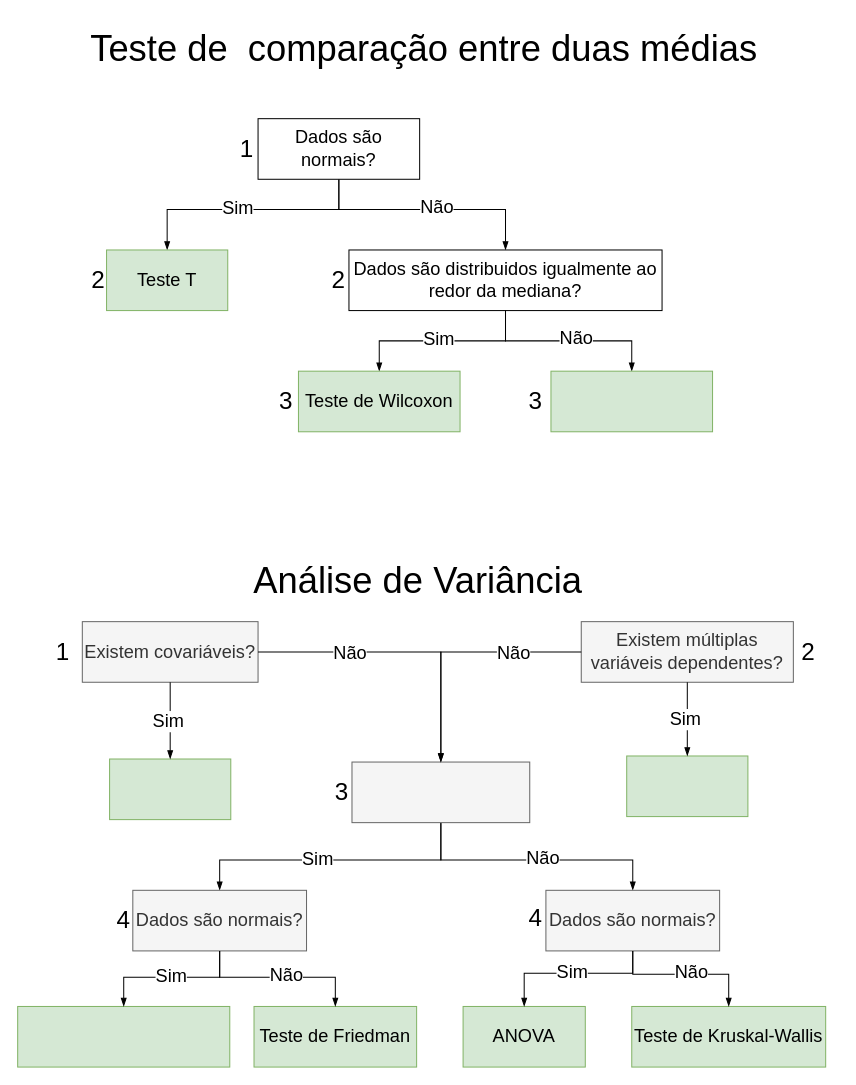
The diagram is 856 pixels wide and 1085 high, and some of its shapes have lost their labels. The shapes that lost their labels are listed below. From the top down, each one's centre as x and y in pixels, then its label:
the point at 631,401: Teste do Sinal
the point at 170,789: ANCOVA
the point at 440,792: Dados são repetidos nos dados?
the point at 687,786: MANOVA
the point at 123,1036: ANOVA médias repetidas e/ou misturadas
